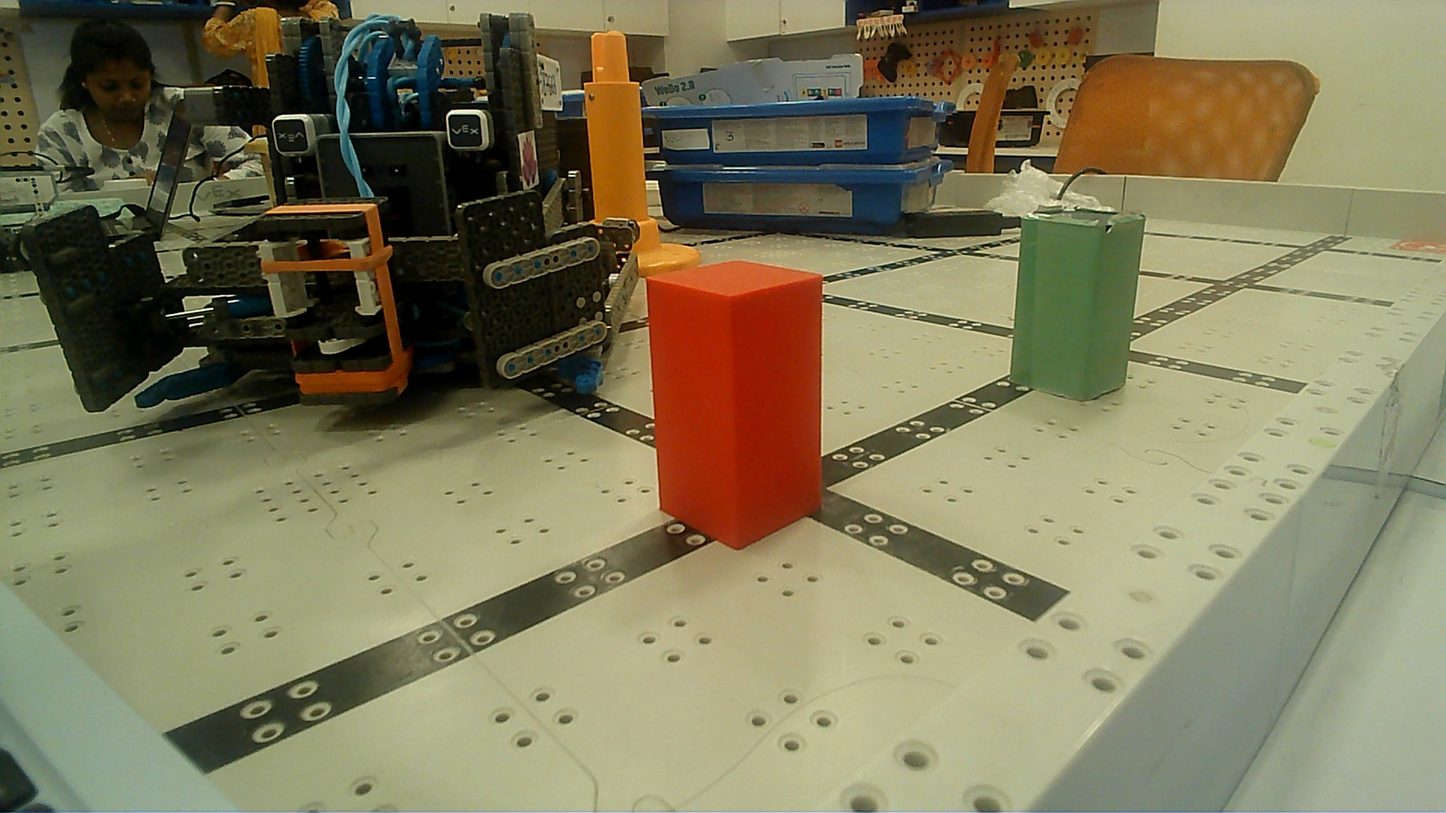red: (647, 234, 833, 565)
